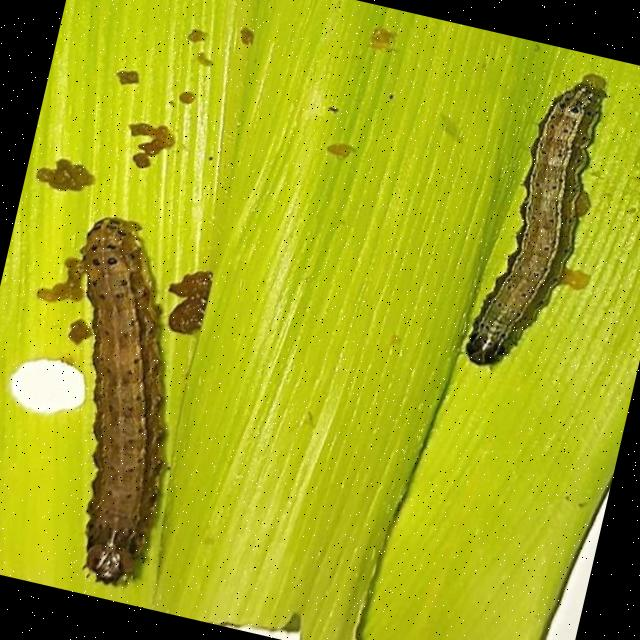worm: (8, 209, 224, 593), (461, 59, 618, 382)
